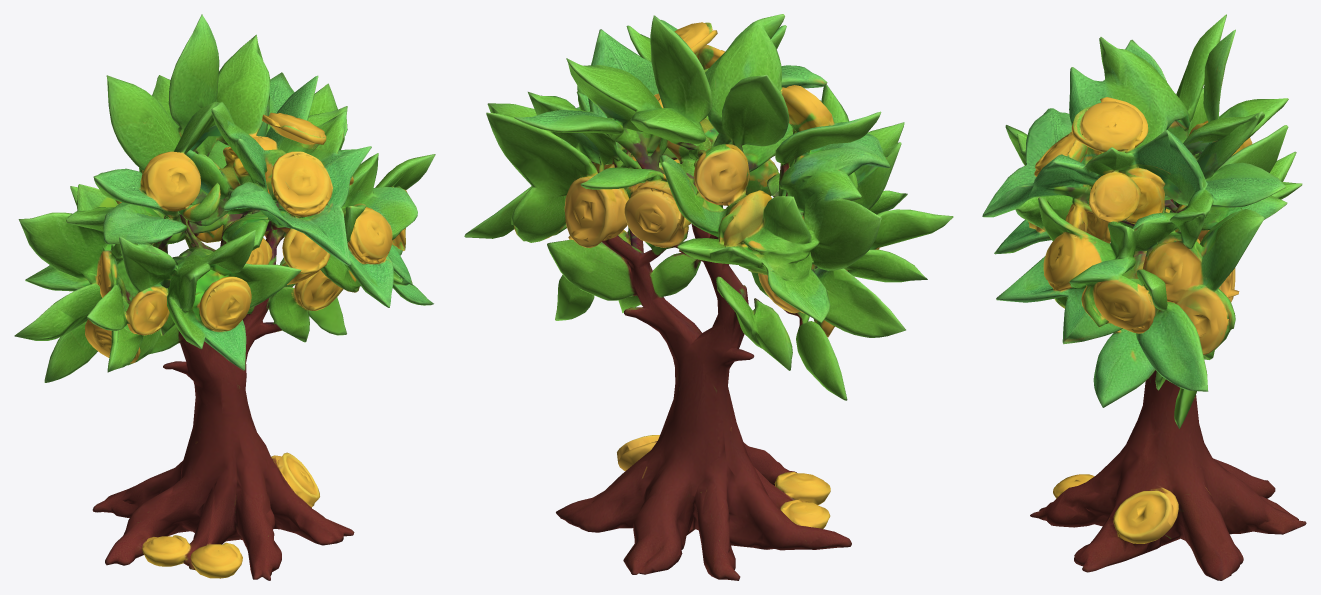
Rendered from money_tree.glb.
3 views of the same model, side by side, from view 1: azimuth 30°, elevation 25°; view 2: azimuth 150°, elevation 25°; view 3: azimuth 270°, elevation 25° (orthographic). The views are drawn at different scales.
Bounding box in the file's own units: 1.66 × 1.91 × 1.12.
1 material, 1 textured.
